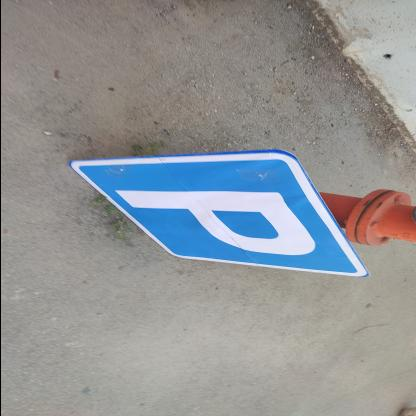Parking-Sign: (67, 149, 371, 280)
